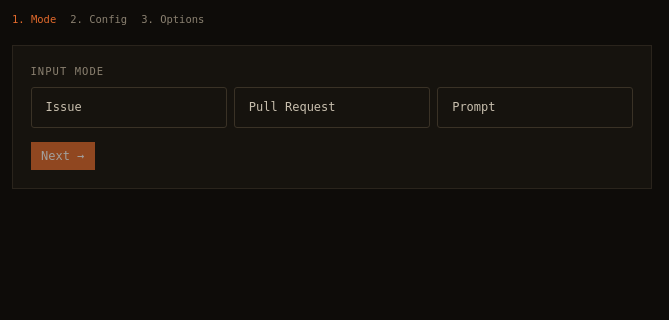
Scenario: <Submit> › Next is disabled in config step until required field is non-empty
Click the button "Issue": coordinates (129, 107) top-left (30, 86), bottom-right (227, 128)
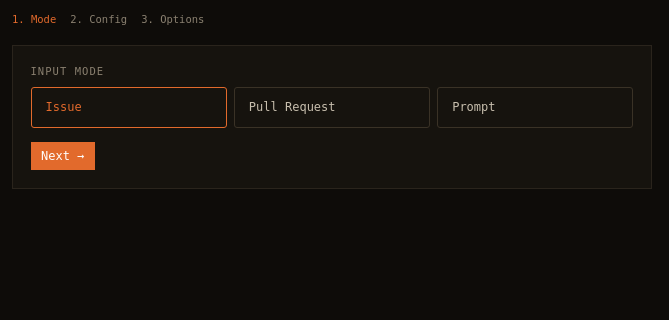
Click the button "Next →": coordinates (63, 156) top-left (30, 142), bottom-right (95, 170)
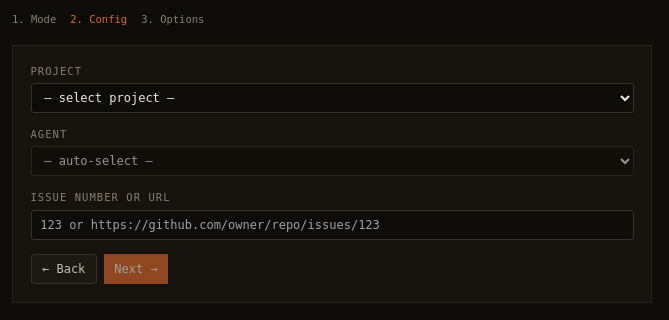
Expected: the button "Next →" is disabled, top-left (104, 254), bottom-right (168, 284)
In the field with placeholder "123 or https://github.com/owner/repo/issues/123": coordinates (332, 224) top-left (30, 210), bottom-right (634, 240), type "not-a-number"
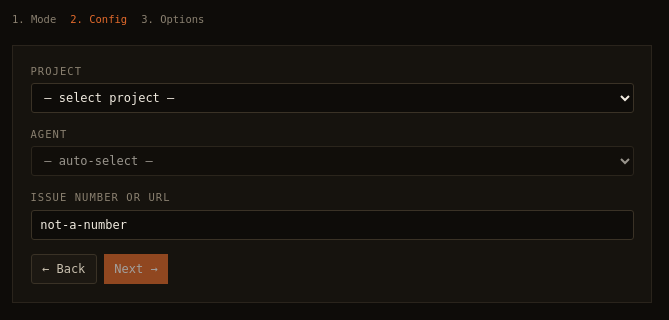
Expected: the button "Next →" is disabled, top-left (104, 254), bottom-right (168, 284)
Replace the text in the field with placeholder "123 or https://github.com/owner/repo/issues/123" with "42": coordinates (332, 224) top-left (30, 210), bottom-right (634, 240)
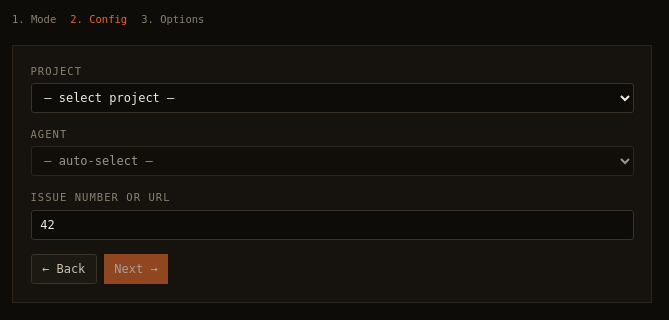
Expected: the button "Next →" is disabled, top-left (104, 254), bottom-right (168, 284)
Select "alpha" in the dropdown labelled "Project": coordinates (332, 98) top-left (30, 83), bottom-right (634, 113)
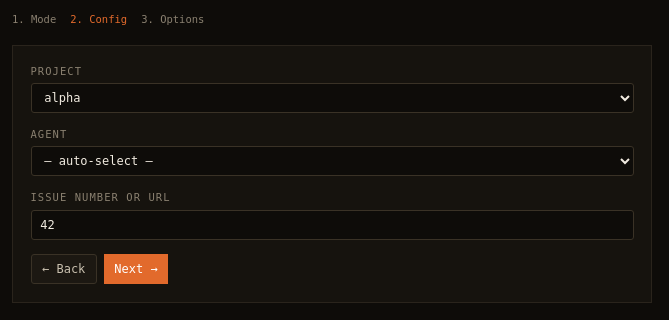
Expected: the button "Next →" is enabled, top-left (104, 254), bottom-right (168, 284)
